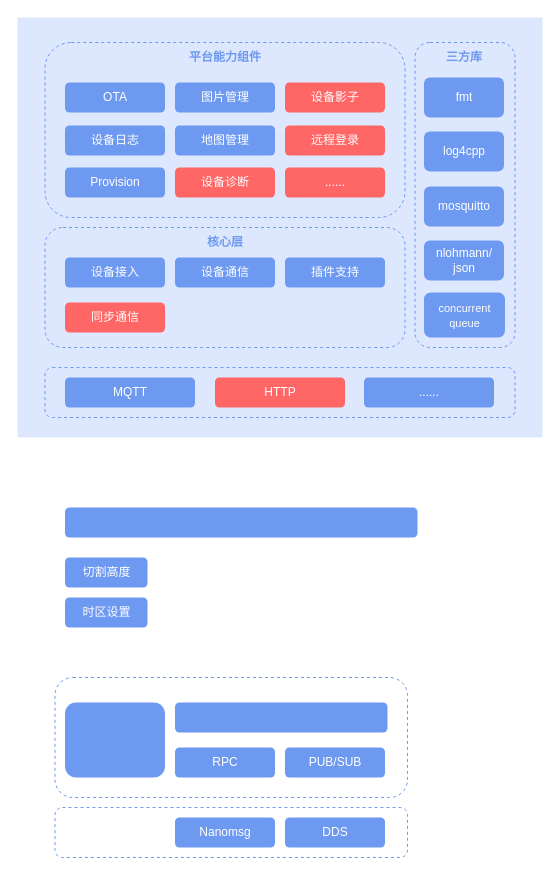
Some shapes in this 559 by 875 pixel diagram are drawn without their labels. Each missing label, with the centre of its shape:
User Api: the point at 240,522
进程内实现: the point at 114,739
进程间实现: the point at 280,717
